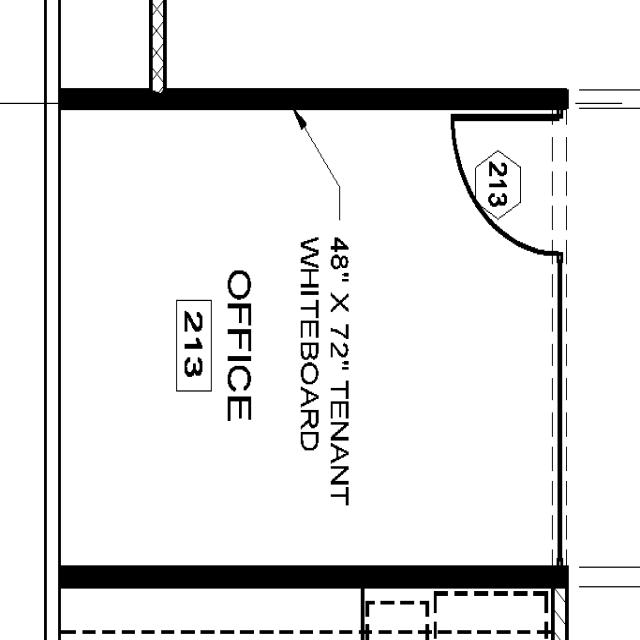Doors: (445, 112, 567, 266)
